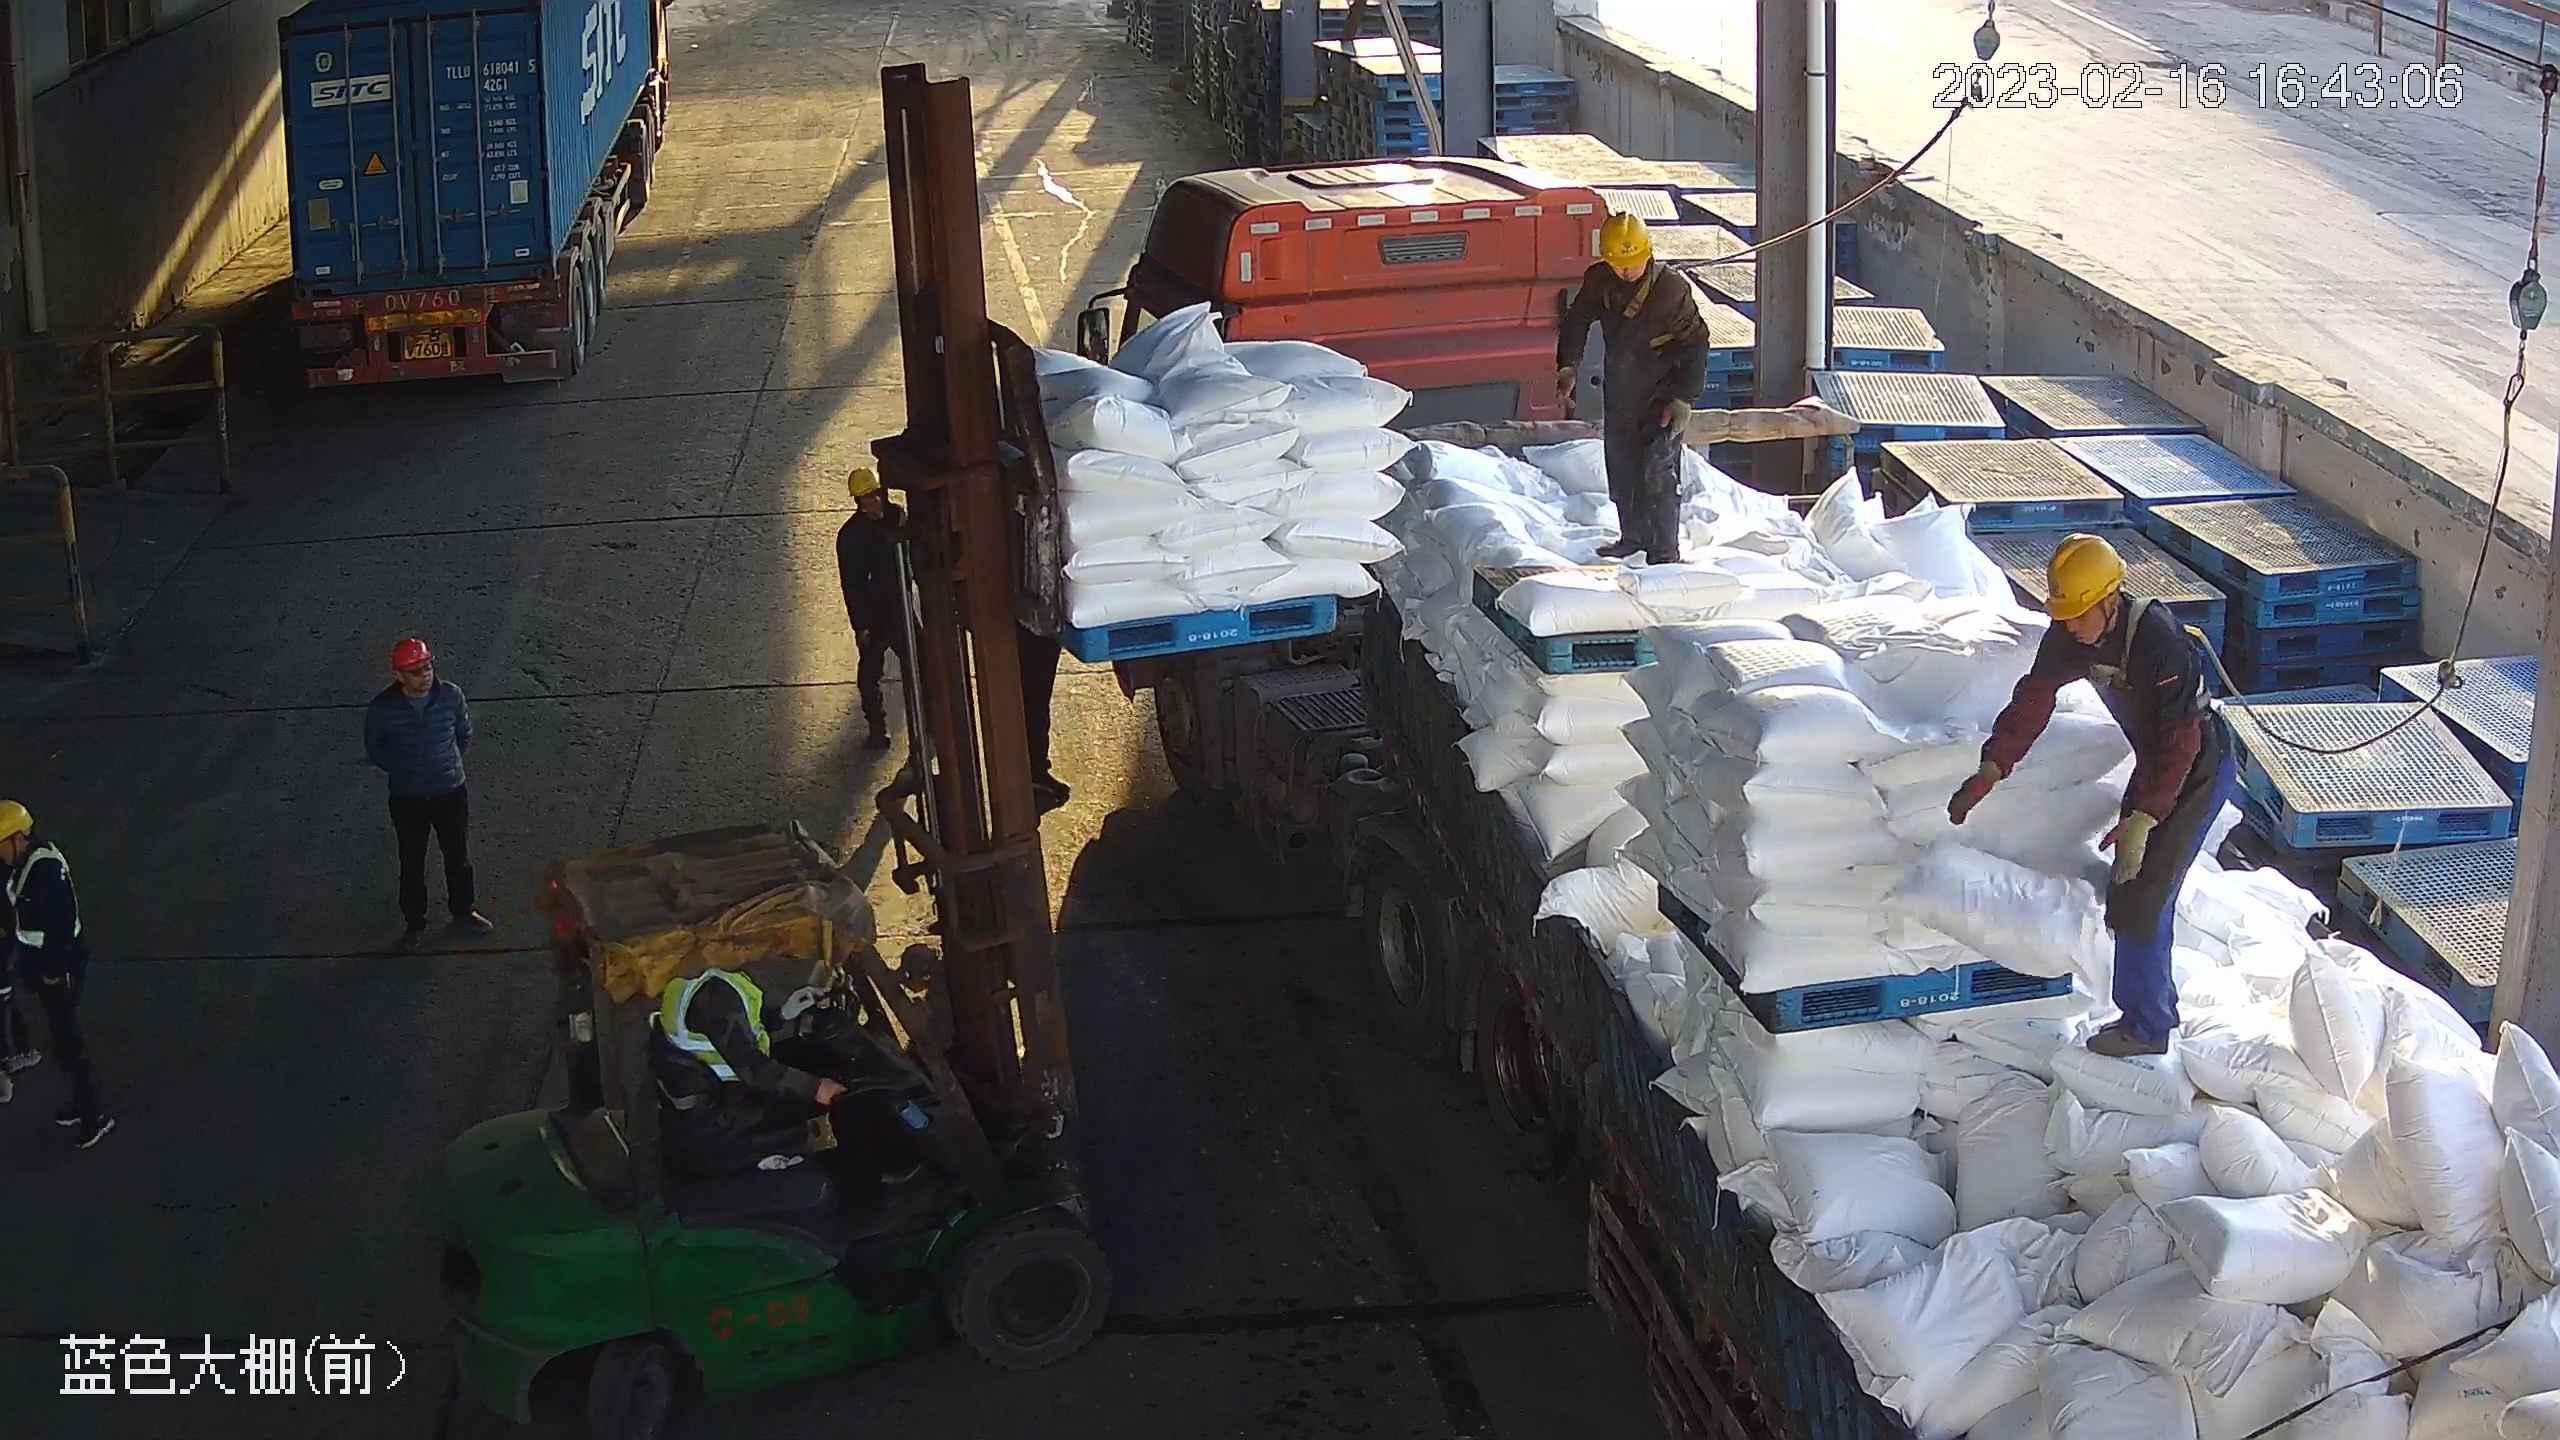belt: (2088, 595, 2210, 687), (1593, 275, 1676, 359)
head: (2026, 525, 2178, 687), (1564, 206, 1679, 316), (5, 806, 84, 925), (367, 638, 476, 725), (841, 464, 917, 563)
helmet: (2041, 532, 2131, 628), (1597, 214, 1655, 268), (1, 804, 34, 839), (848, 466, 878, 497), (395, 640, 431, 666)
people: (1945, 533, 2243, 1064), (665, 971, 936, 1189), (1555, 213, 1710, 570), (364, 643, 505, 951), (7, 806, 117, 1154), (840, 466, 929, 756)
truck: (1076, 144, 2560, 1440), (276, 1, 674, 406)
